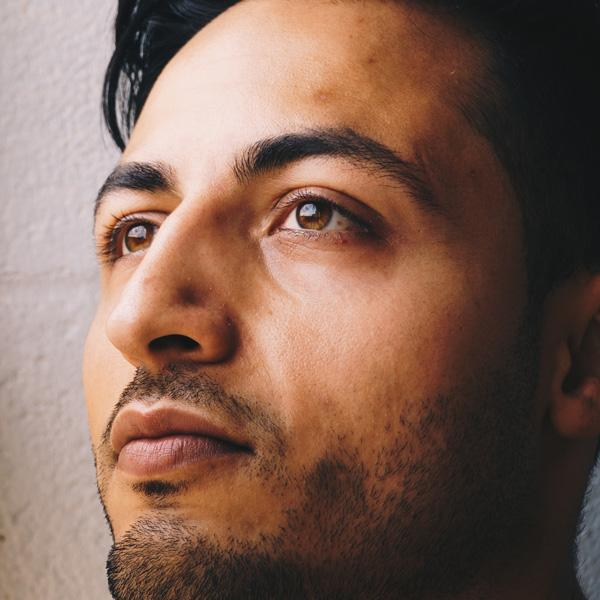Eyes: (256, 179, 394, 261), (98, 208, 179, 279)
